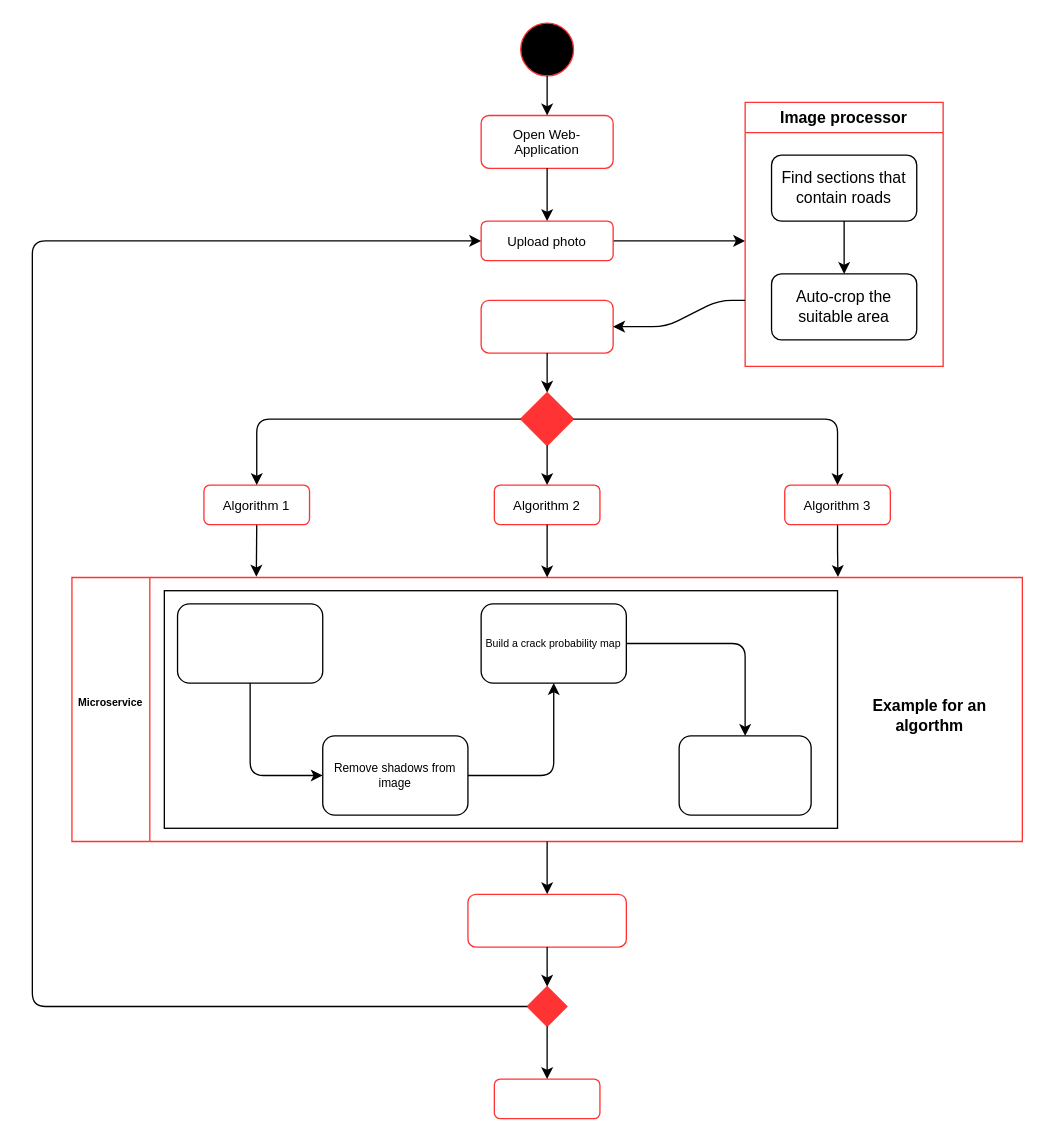
The diagram is 1045 pixels wide and 1142 high, and some of its shapes have lost their labels. The shapes that lost their labels are listed below. From the top down, each one's centre as x and y in pixels, then its label:
the point at 546,326: Pick an algorithm
the point at 249,643: Divide remaining image into smaller parts
the point at 744,775: Identify desirable cracks
the point at 546,920: Obtain results
the point at 546,1098: Exit page
